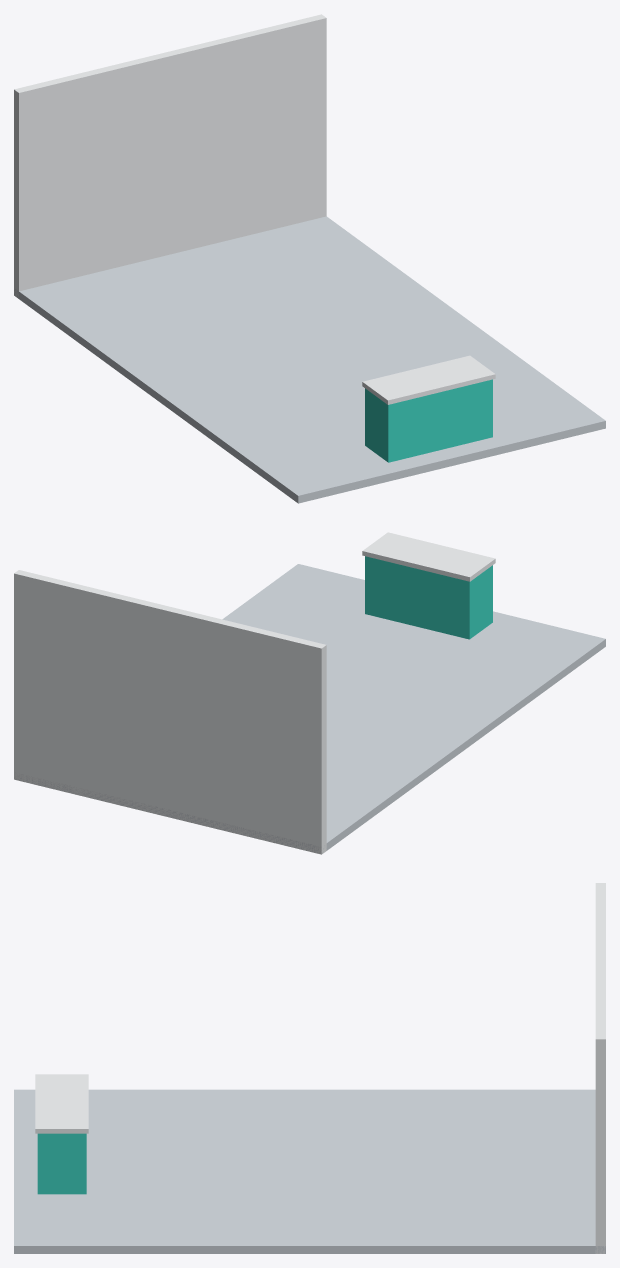
The picture shows the model from 3 angles, top to bottom: view 1: azimuth 30°, elevation 25°; view 2: azimuth 150°, elevation 25°; view 3: azimuth 270°, elevation 25°; orthographic projection. The views are drawn at different scales.
Visible parts, largest first — view 1: Exhibition Booth Concept; view 2: Exhibition Booth Concept; view 3: Exhibition Booth Concept.
Boxes of the visible parts, x1,y1,x2,y2 form: Exhibition Booth Concept: [14, 14, 605, 503]; Exhibition Booth Concept: [14, 532, 605, 854]; Exhibition Booth Concept: [14, 883, 605, 1253].
Size of the model in its own units: 5 by 3.2 by 8.
